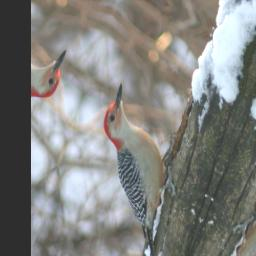Woodpecker: (71, 78, 200, 256)
